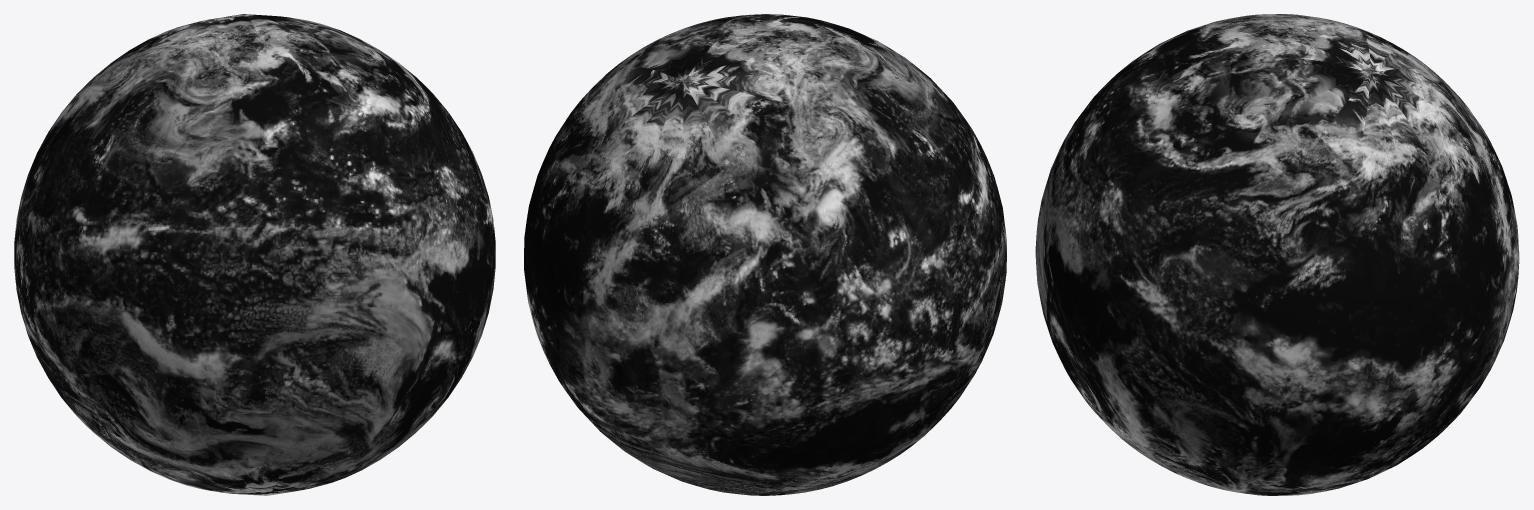
The model's file is earth.glb.
3 views of the same model, side by side, from view 1: azimuth 30°, elevation 25°; view 2: azimuth 150°, elevation 25°; view 3: azimuth 270°, elevation 25° (orthographic).
Parts seen in each view (by area): view 1: atmos_Material.003_0; view 2: atmos_Material.003_0; view 3: atmos_Material.003_0.
Part boxes in pixels (<box>): atmos_Material.003_0: <box>14,14,495,495</box>; atmos_Material.003_0: <box>524,14,1006,495</box>; atmos_Material.003_0: <box>1035,14,1519,495</box>.
Size of the model in its own units: 1314 by 1310 by 1314.
Materials: 3 (2 with a texture image).
